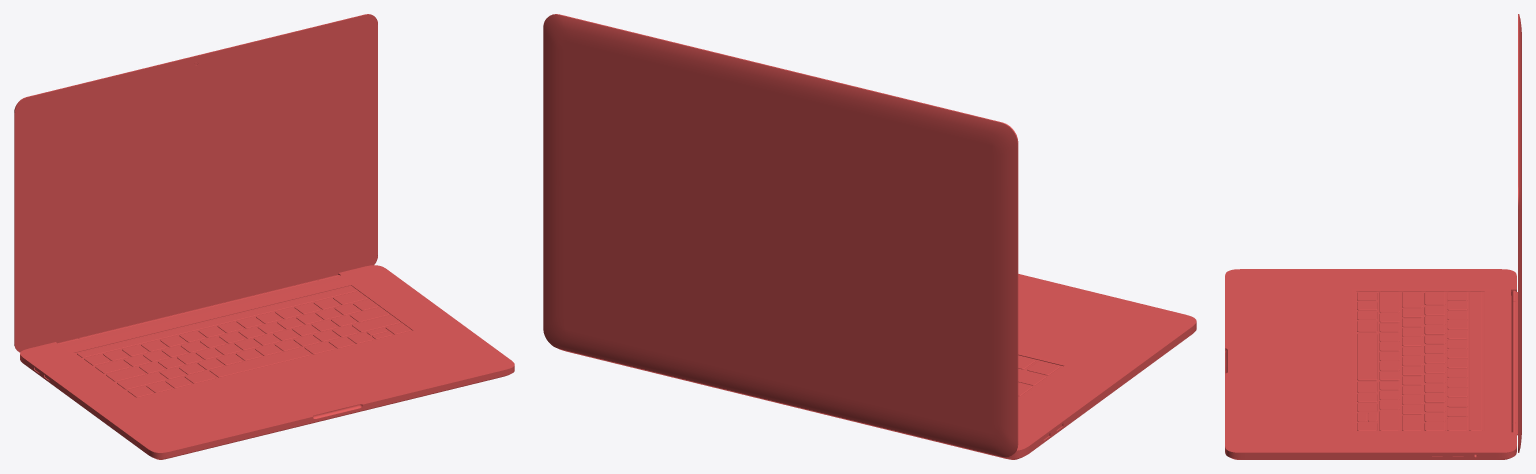
The model's file is macbook.obj.
3 views of the same model, side by side, from view 1: azimuth 30°, elevation 25°; view 2: azimuth 150°, elevation 25°; view 3: azimuth 270°, elevation 25° (orthographic). The views are drawn at different scales.
Parts seen in each view (by area): view 1: Rectangle004, Rectangle003, Object026, Object025, Object027; view 2: Rectangle004, Rectangle003, Object025, Object026; view 3: Rectangle003, Object026, Object025, Object027, Rectangle004, Cylinder007.
Boxes of the visible parts, x1,y1,x2,y2 form: Rectangle004: (14, 14, 377, 352); Rectangle003: (20, 265, 514, 459); Object026: (84, 291, 411, 397); Object025: (197, 346, 414, 427); Object027: (77, 286, 356, 357); Rectangle004: (543, 14, 1018, 457); Rectangle003: (553, 274, 1196, 459); Object025: (1018, 277, 1066, 324); Object026: (1018, 355, 1060, 396); Rectangle003: (1225, 269, 1516, 459); Object026: (1357, 291, 1467, 430); Object025: (1231, 320, 1351, 401); Object027: (1469, 291, 1482, 430); Rectangle004: (1518, 14, 1521, 452); Cylinder007: (1511, 290, 1515, 432).
Size of the model in its own units: 358 by 248 by 245.
